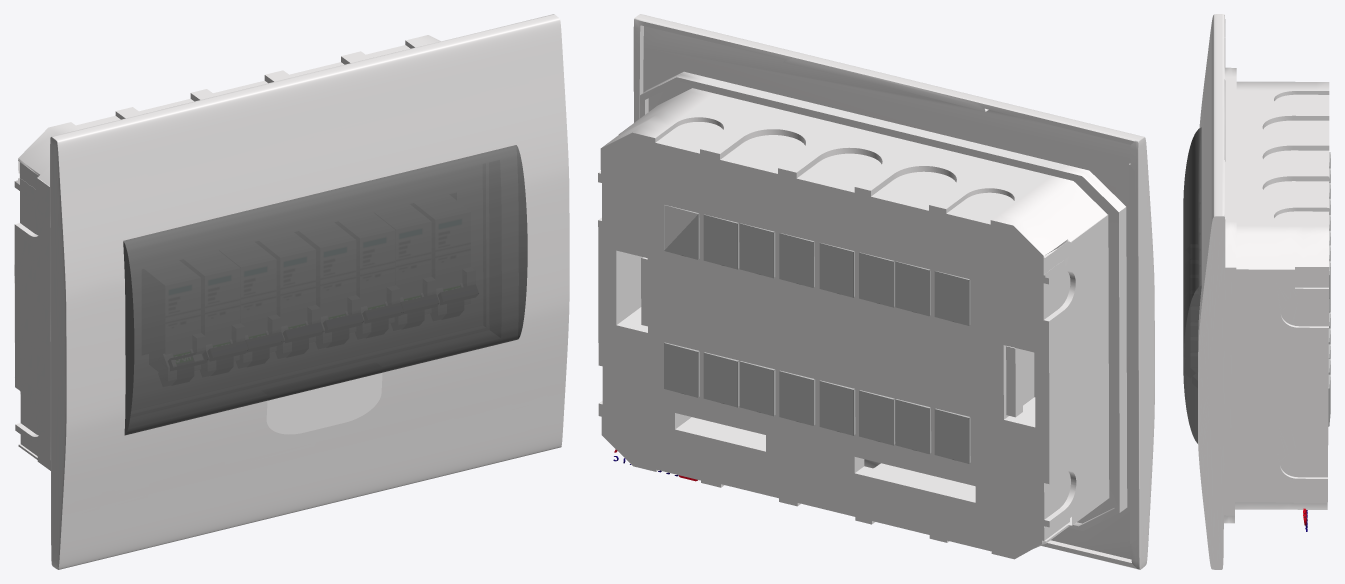
File: MCB.fbx
3 views of the same model, side by side, from view 1: azimuth 30°, elevation 25°; view 2: azimuth 150°, elevation 25°; view 3: azimuth 270°, elevation 25° (orthographic). The views are drawn at different scales.
Parts seen in each view (by area): view 1: Object_46.190; view 2: Object_46.190; view 3: Object_46.190.
Boxes of the visible parts, left/top/right/bottom form: Object_46.190: left=14, top=14, right=569, bottom=569; Object_46.190: left=598, top=14, right=1154, bottom=569; Object_46.190: left=1183, top=14, right=1330, bottom=569.
Size of the model in its own units: 429 by 349 by 132.
Materials: 8 (1 with a texture image).
